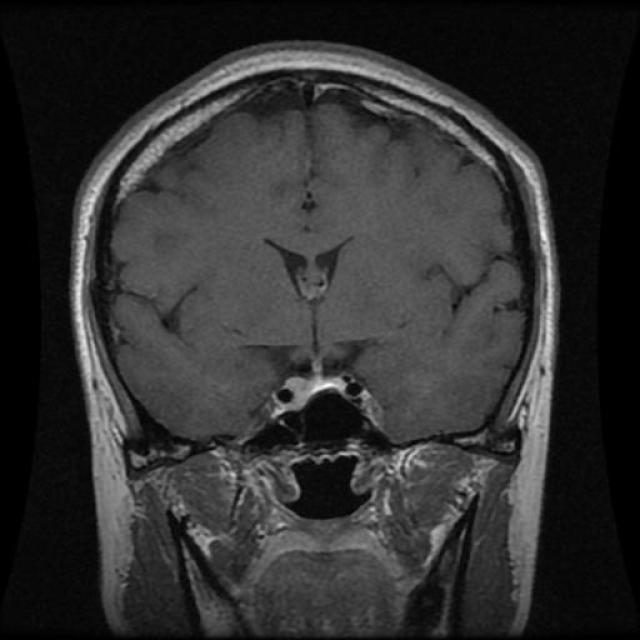pituitary: (268, 370, 381, 459)
